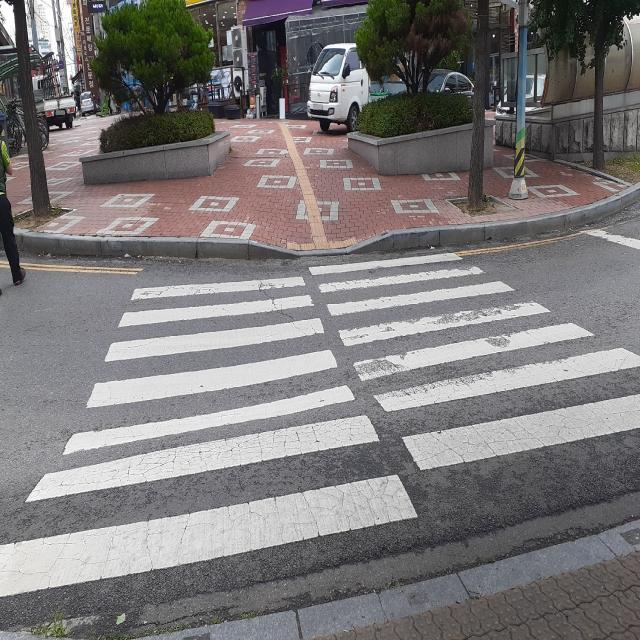횡단보도: (0, 251, 640, 600)
